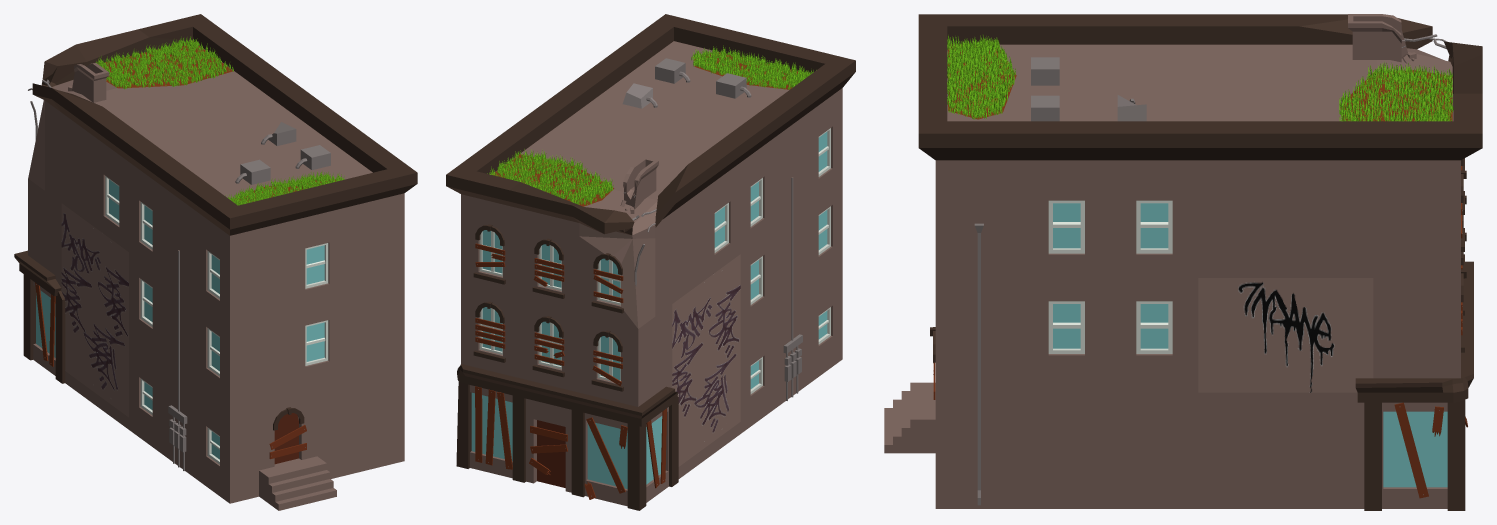
File: Building_2.fbx
3 renders of one model, left to right at view 1: azimuth 30°, elevation 25°; view 2: azimuth 150°, elevation 25°; view 3: azimuth 270°, elevation 25°, orthographic. The views are drawn at different scales.
Visible parts, largest first — view 1: Building01destroy, Dirt_plan; view 2: Building01destroy, Dirt_plan, Dirt_plan.001; view 3: Building01destroy, Dirt_plan, Dirt_plan.001.
Part boxes in pixels (box(x1,y1,x2,y2)): Building01destroy: box(14, 14, 417, 510); Dirt_plan: box(98, 41, 232, 88); Building01destroy: box(446, 14, 855, 510); Dirt_plan: box(492, 154, 614, 206); Dirt_plan.001: box(693, 52, 797, 89); Building01destroy: box(884, 14, 1482, 510); Dirt_plan: box(1340, 70, 1452, 121); Dirt_plan.001: box(948, 44, 1016, 119).
Bounding box in the file's own units: 660 × 1006 × 1367.
